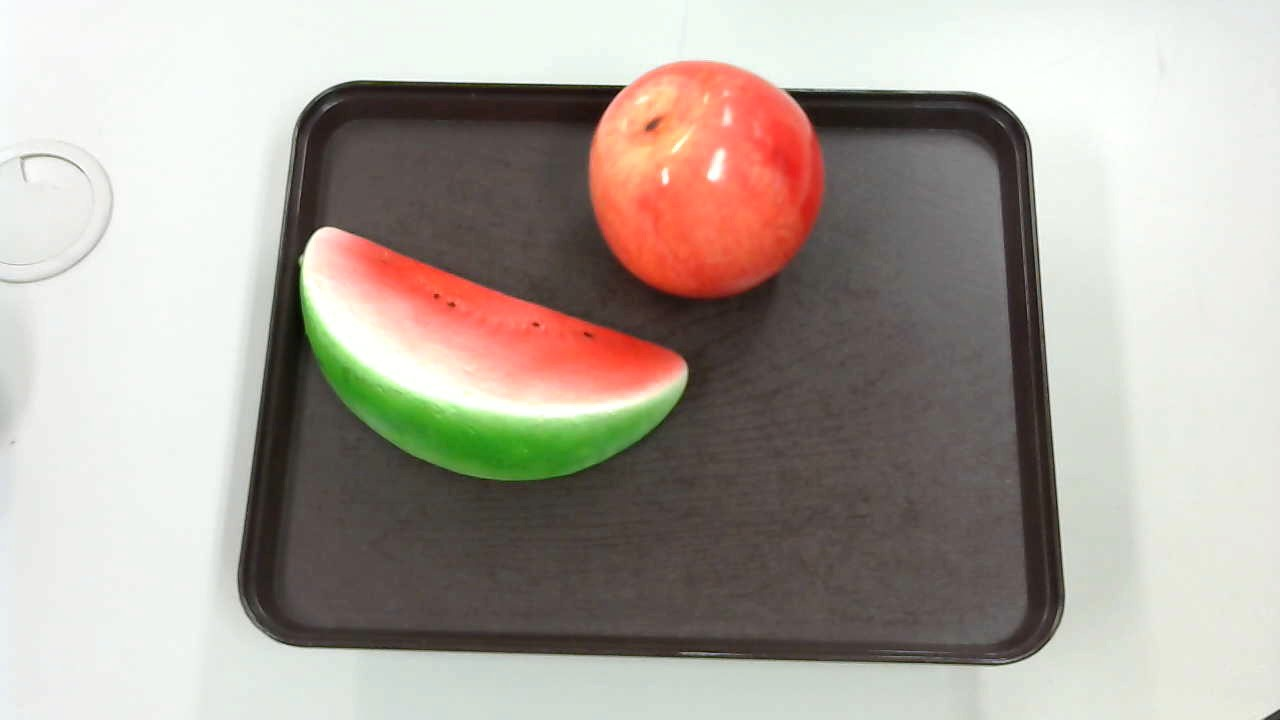red apple: (580, 51, 830, 305)
water melon: (284, 213, 699, 493)
